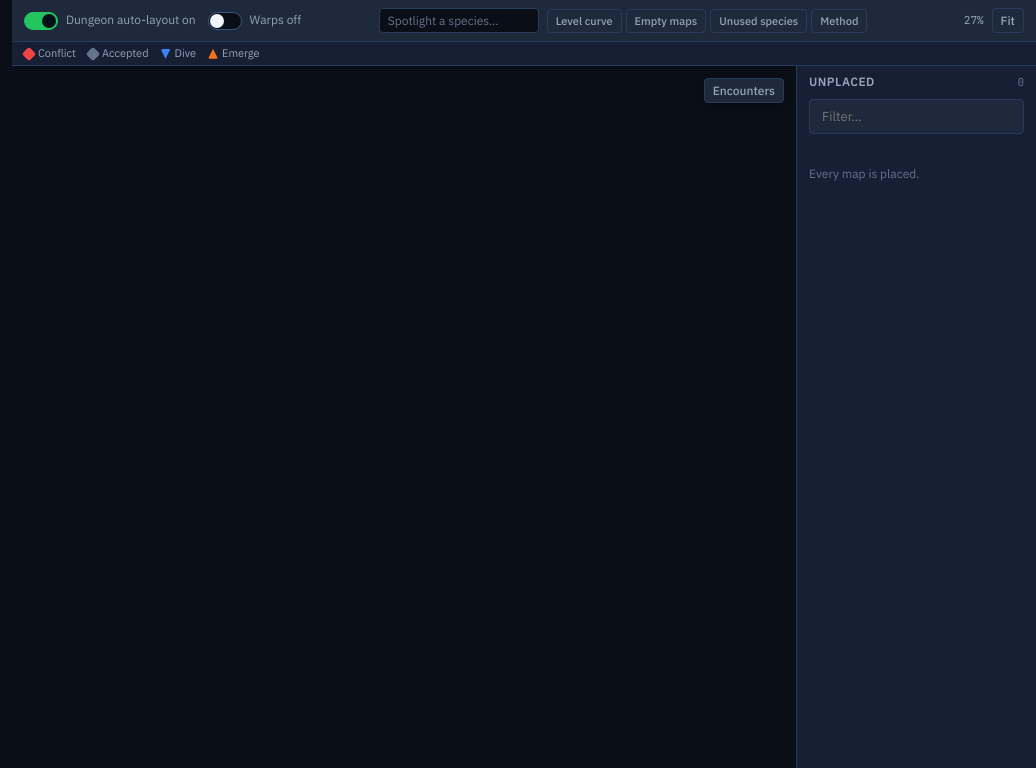
Test: WorldCanvas › warp toggle and markers (Feature B) › markers are hidden until the toggle is switched on, and hidden again once it's switched back off
What coordinates should you click on to do the following:
click the switch named "warps"
I would click on:
 (225, 20)
Its box is [208,12,242,30].
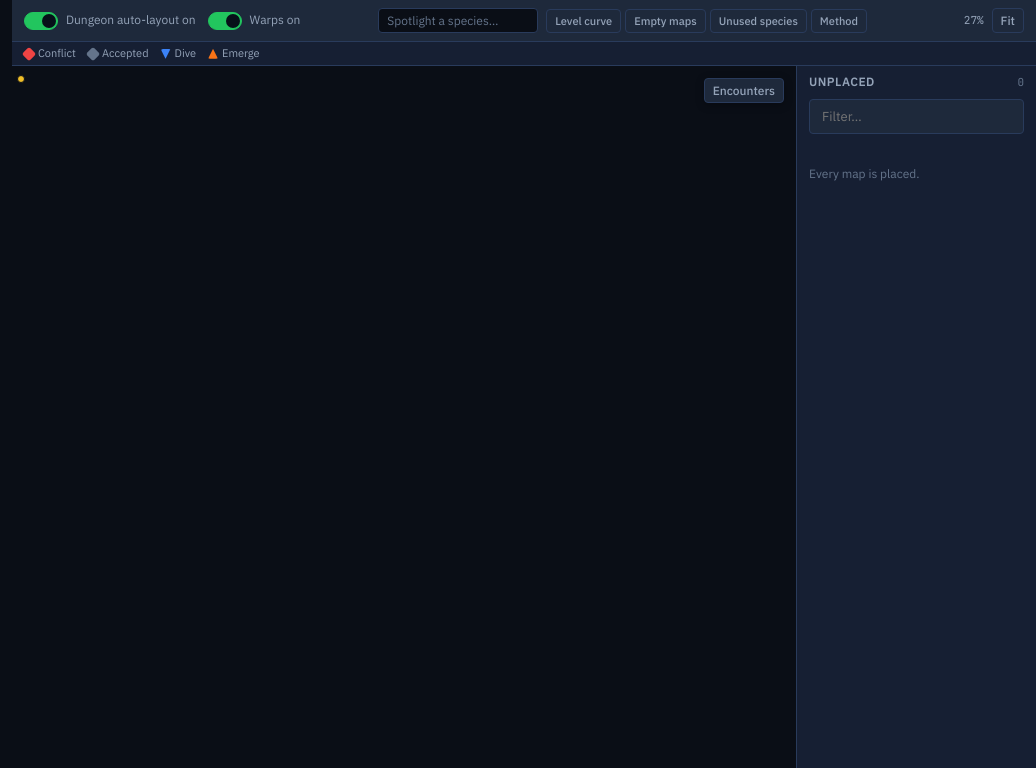
Check: the number of elements with class "world-canvas__warp-marker" is 1, box [17,75,25,83]
What coordinates should you click on to do the following:
click the switch named "warps"
I would click on:
 (225, 20)
Its box is [208,12,242,30].
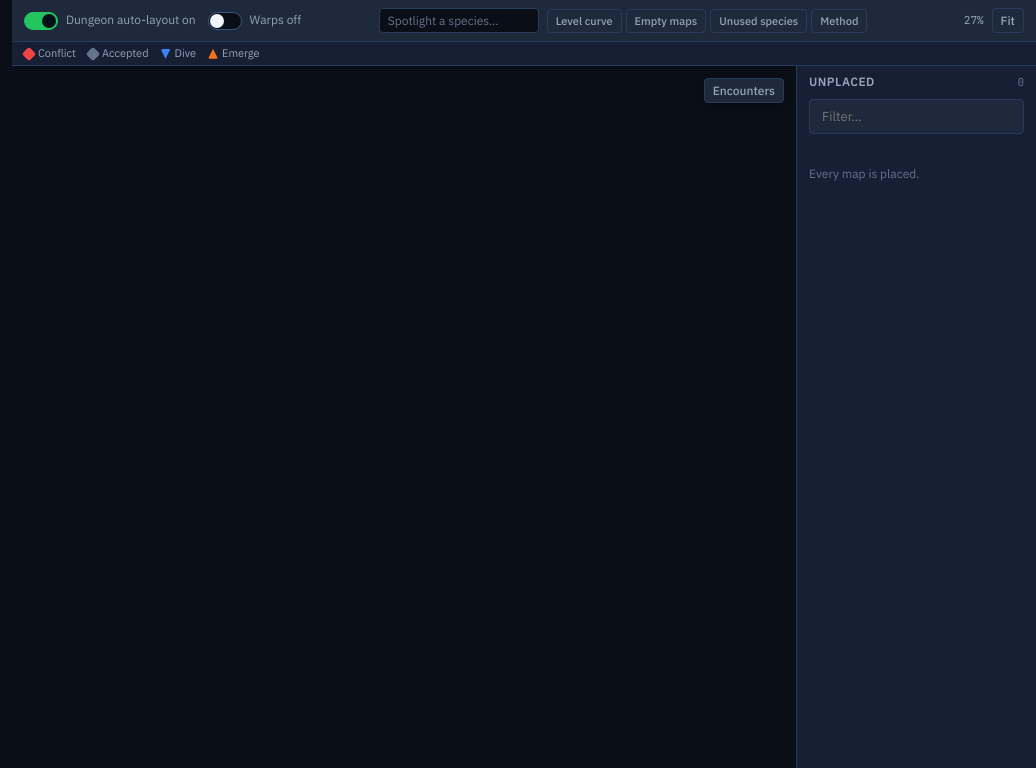
Check: no elements with class "world-canvas__warp-marker" are shown
